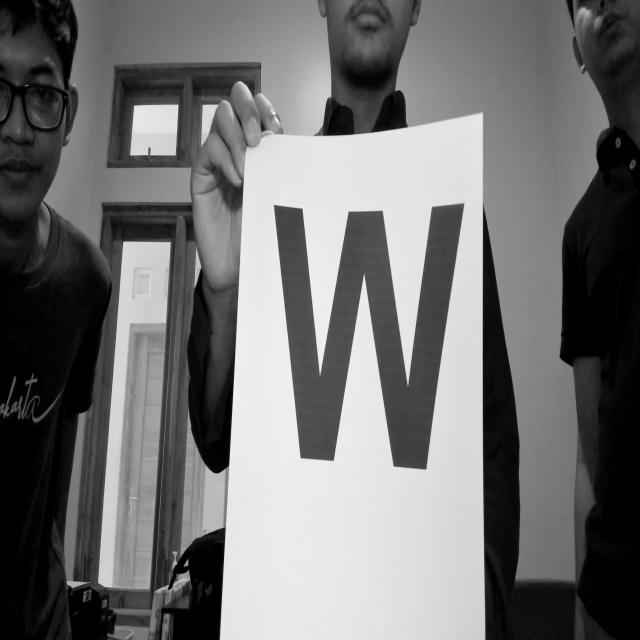w: (260, 178, 474, 508)
